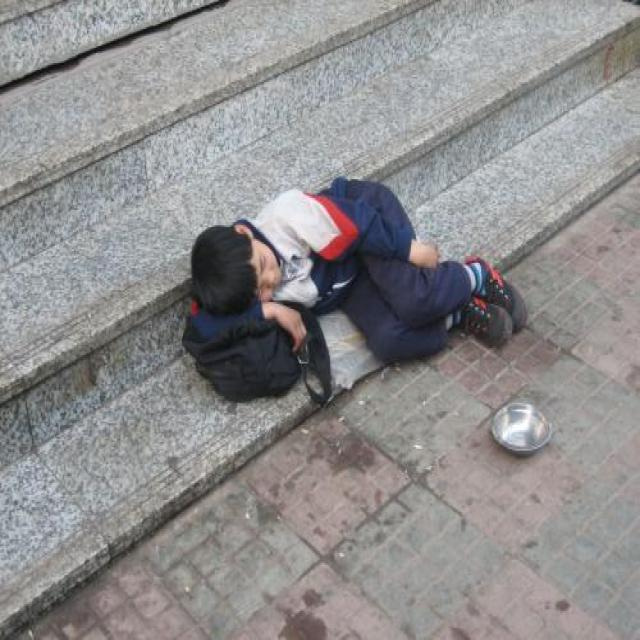fall: (185, 171, 516, 358)
